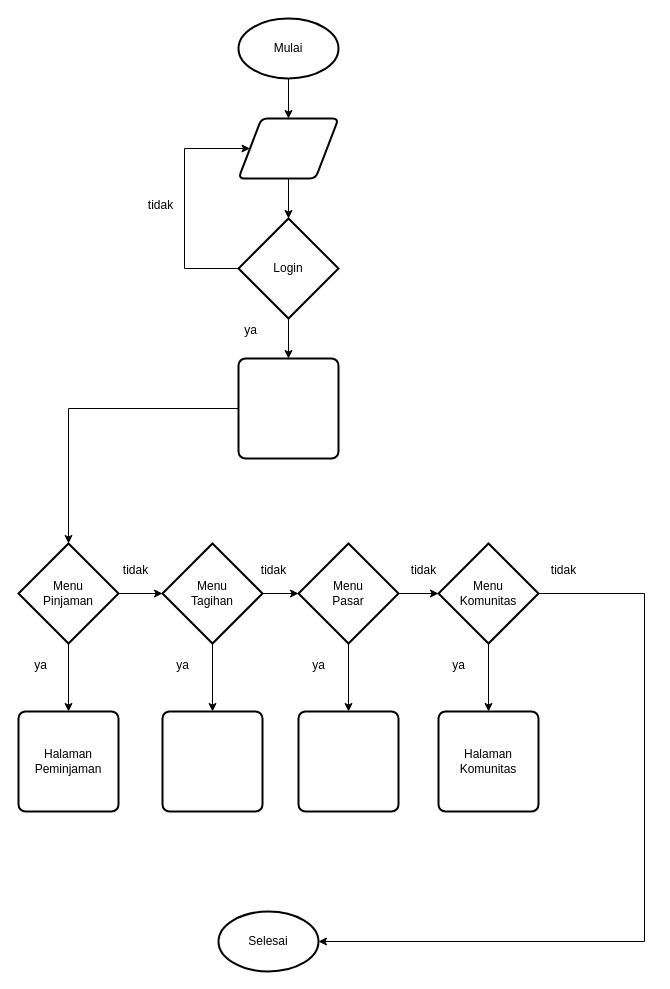
Image size: 670x989. Some labels were removed from this diagram. Each missing label, with the centre of its shape:
Halaman Pasar: [348,761]
Halaman Pertama: [288,148]
Halaman Tagihan: [212,761]
Halaman Utama: [288,408]
